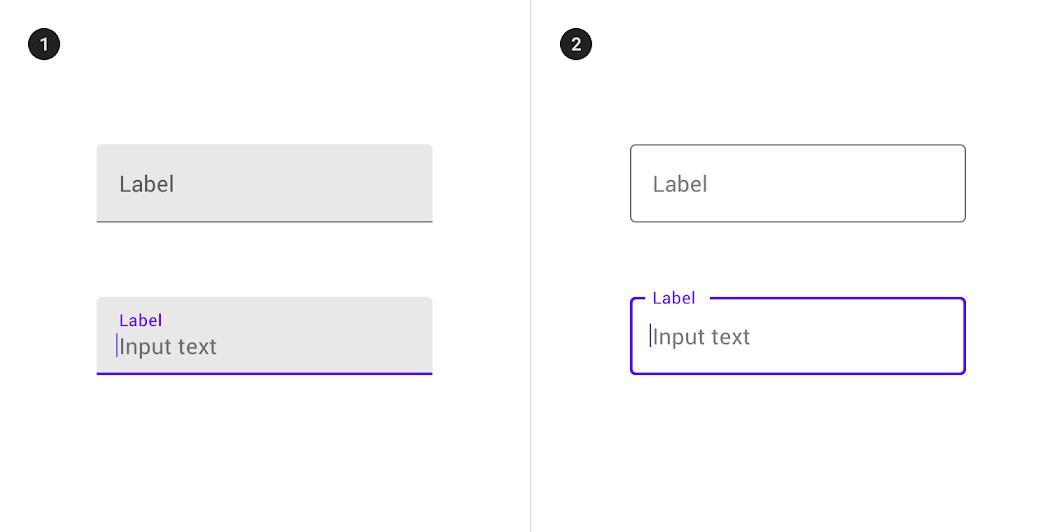input: (631, 144, 968, 226), (96, 295, 434, 376), (96, 144, 434, 224), (631, 297, 967, 376)
label: (650, 289, 704, 310)
